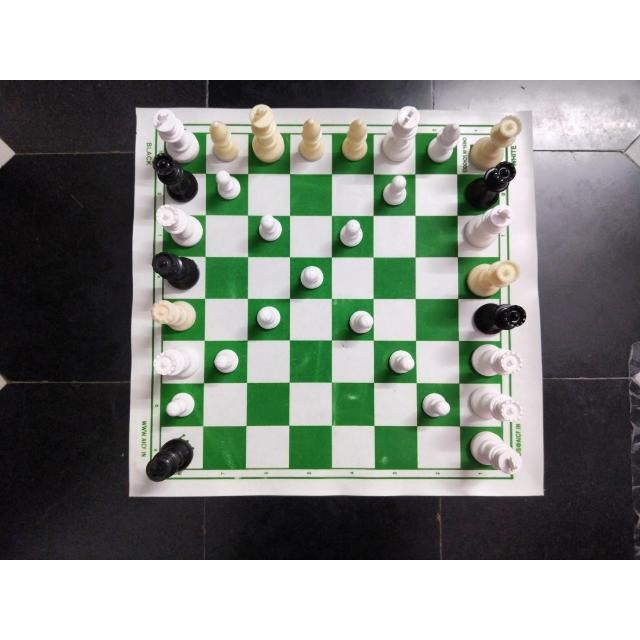black-king: (143, 432, 200, 483)
black-queen: (462, 158, 518, 206), (150, 156, 200, 200), (468, 299, 531, 333), (151, 253, 199, 289)
white-bishop: (428, 121, 462, 165), (203, 122, 242, 160), (341, 117, 371, 159), (297, 118, 324, 164)
white-king: (466, 431, 522, 477), (150, 108, 197, 160), (462, 202, 513, 248), (246, 105, 285, 165), (380, 106, 421, 163)
white-pawn: (377, 174, 414, 210), (249, 303, 285, 335), (161, 388, 197, 418), (419, 390, 452, 422), (383, 347, 417, 377), (336, 215, 365, 250), (213, 167, 241, 202), (210, 347, 242, 377), (346, 304, 375, 335), (254, 211, 282, 243), (297, 262, 325, 292)
white-queen: (468, 114, 524, 169), (465, 258, 521, 296), (466, 388, 525, 424), (157, 205, 203, 249), (470, 344, 522, 377), (150, 300, 198, 334), (149, 345, 197, 379)
